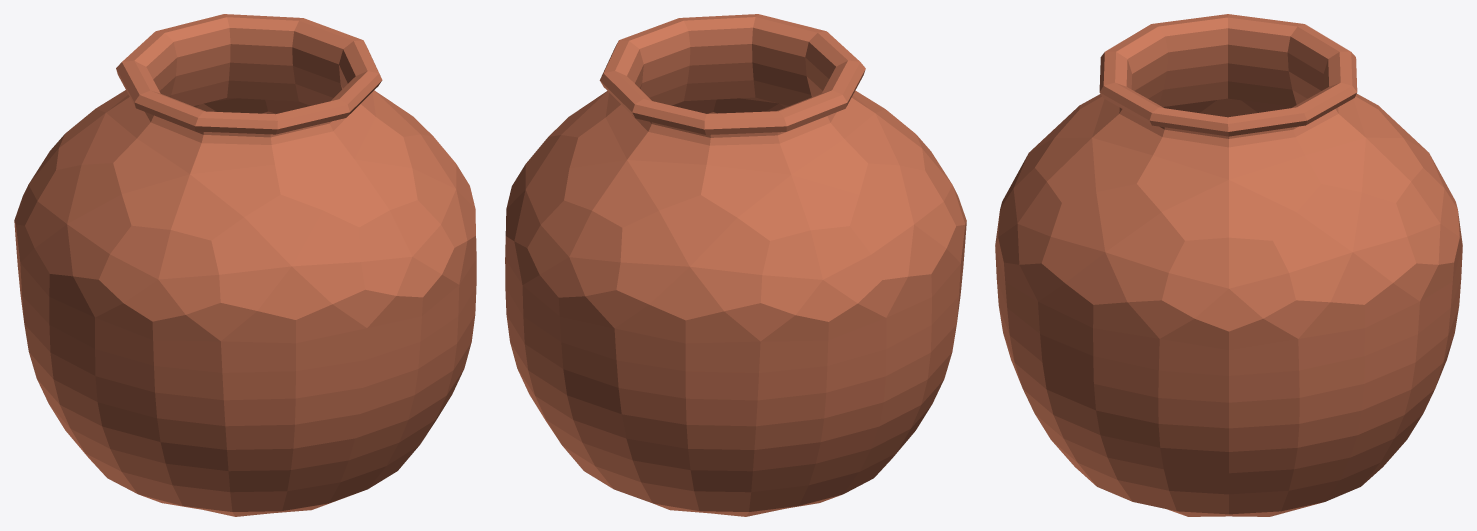
File: Pots_type_3.fbx
3 views of the same model, side by side, from view 1: azimuth 30°, elevation 25°; view 2: azimuth 150°, elevation 25°; view 3: azimuth 270°, elevation 25° (orthographic).
Visible parts, largest first — view 1: Box_rond_1; view 2: Box_rond_1; view 3: Box_rond_1.
Boxes of the visible parts, left/top/right/bottom form: Box_rond_1: left=14, top=14, right=476, bottom=516; Box_rond_1: left=505, top=14, right=966, bottom=516; Box_rond_1: left=995, top=14, right=1462, bottom=516.
Bounding box in the file's own units: 76.33 × 74.44 × 76.3.
